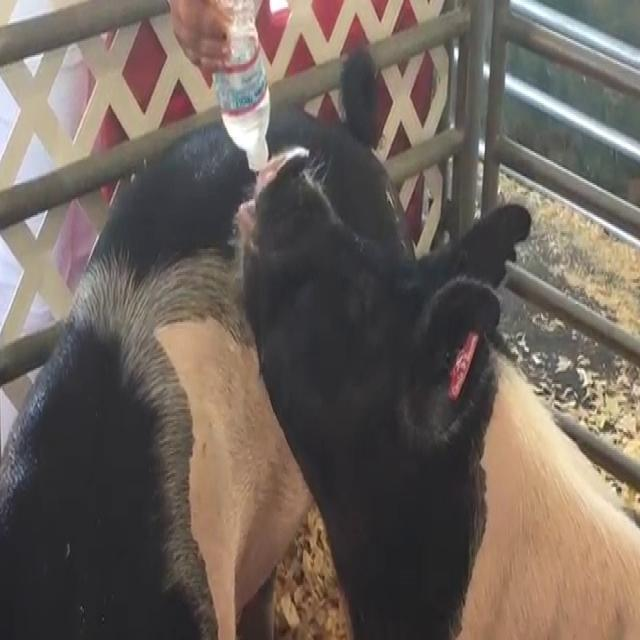pig: (239, 150, 640, 639), (0, 126, 311, 639), (270, 111, 409, 259)
